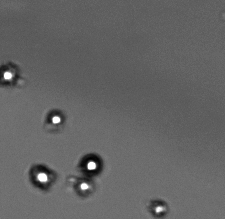Living Cell: (28, 163, 56, 189), (79, 151, 103, 176), (1, 60, 22, 88), (44, 108, 67, 128), (72, 178, 96, 197), (149, 198, 171, 216)
